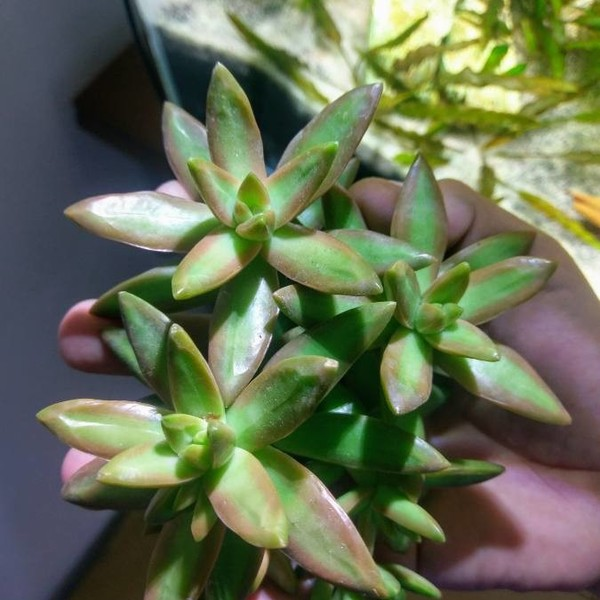obstacle: (70, 80, 571, 574)
